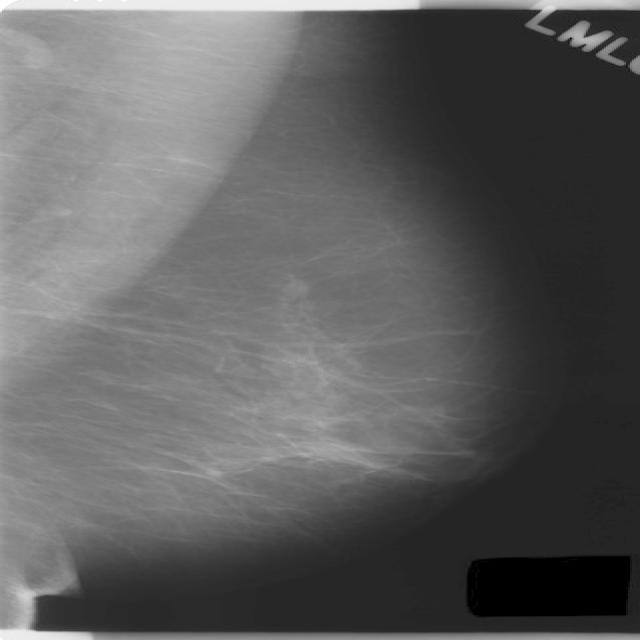tumour: (277, 272, 313, 306)
